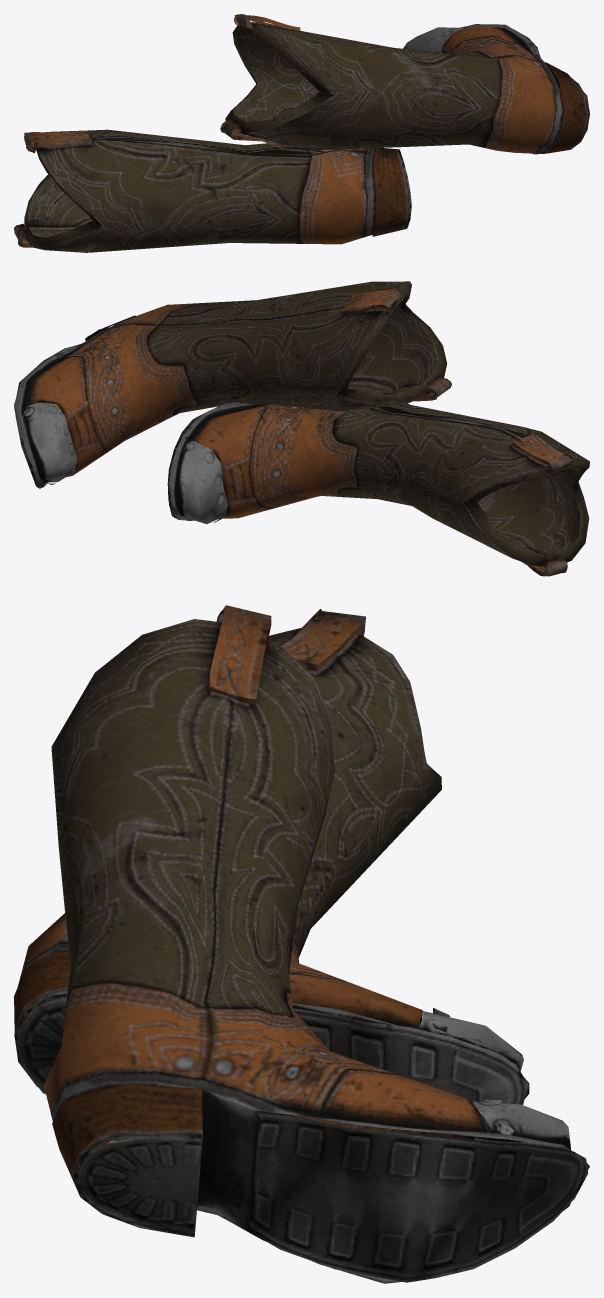
The model's file is ManhunterBoots_Ground.fbx.
The picture shows the model from 3 angles, top to bottom: view 1: azimuth 30°, elevation 25°; view 2: azimuth 150°, elevation 25°; view 3: azimuth 270°, elevation 25°; orthographic projection. The views are drawn at different scales.
Visible parts, largest first — view 1: GND_boot; view 2: GND_boot; view 3: GND_boot.
Boxes of the visible parts, x1=… form: GND_boot: x1=14, y1=14, x2=589, y2=252; GND_boot: x1=14, y1=281, x2=589, y2=576; GND_boot: x1=14, y1=605, x2=589, y2=1283.
Size of the model in its own units: 0.3195 by 0.1404 by 0.1643.
